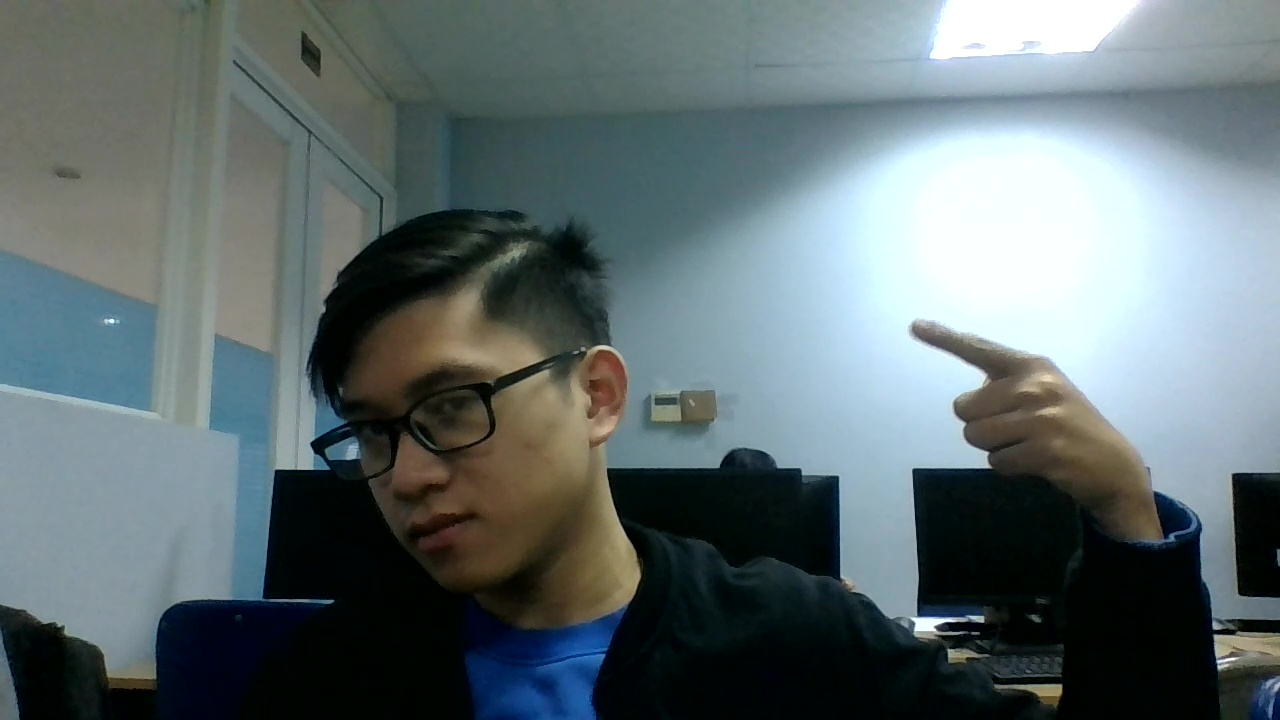right: (912, 307, 1187, 508)
